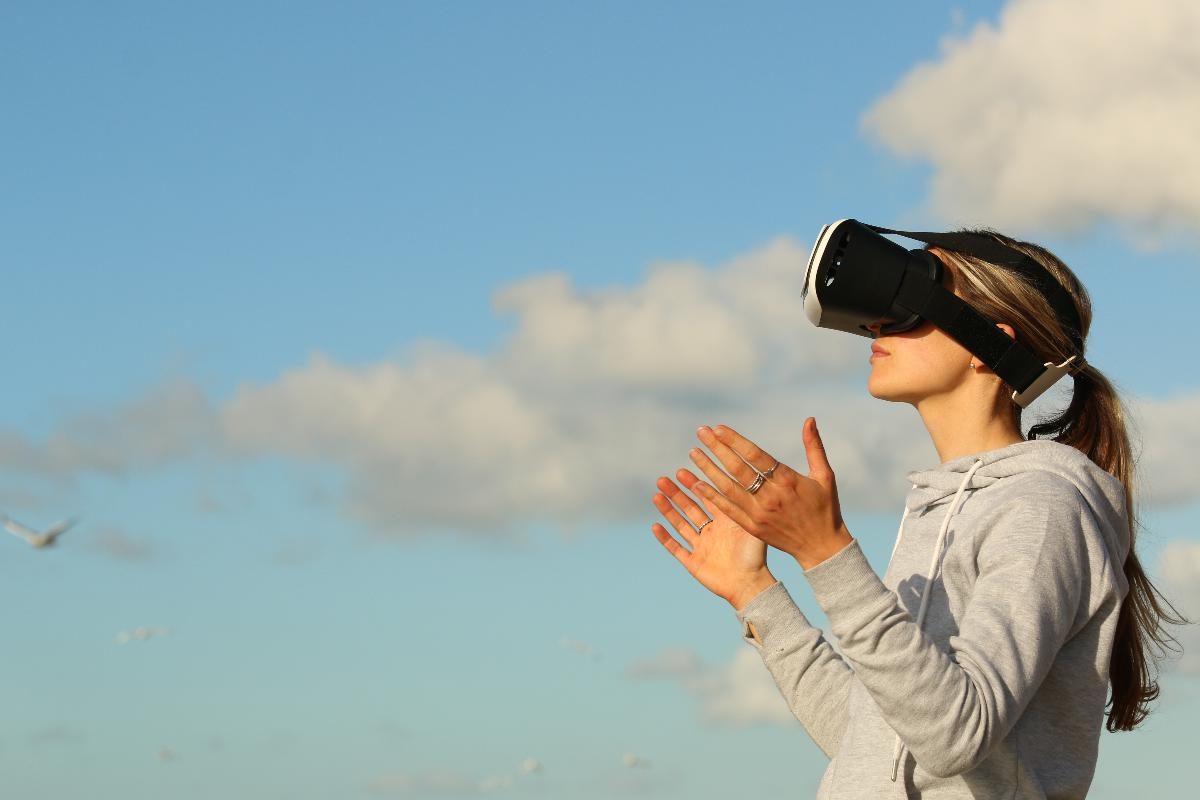Person: (648, 215, 1133, 800)
